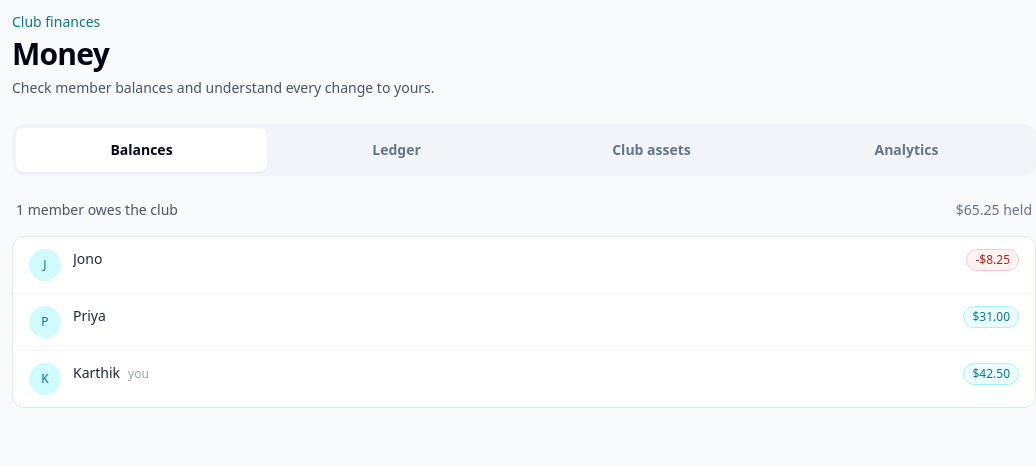
Test: Money — club assets › shows a clear error and retry when assets cannot load
Click the tab "Club assets" at (652, 150), box x1=526 y1=128 x2=777 y2=172
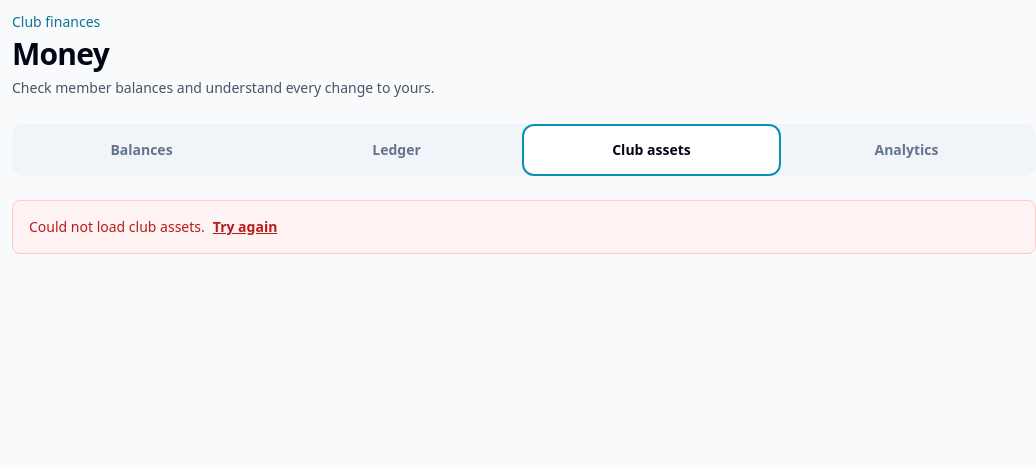
Now the message shows "Could not load club assets", box x1=29 y1=217 x2=205 y2=236
Click the button "Try again" at (245, 227), box x1=213 y1=217 x2=277 y2=237
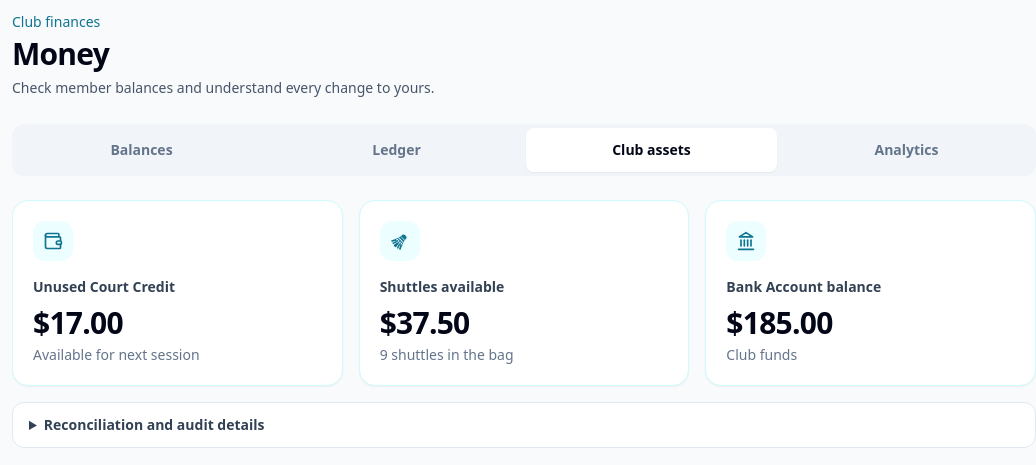
Now the text "$185.00" is shown, box x1=726 y1=302 x2=833 y2=343
